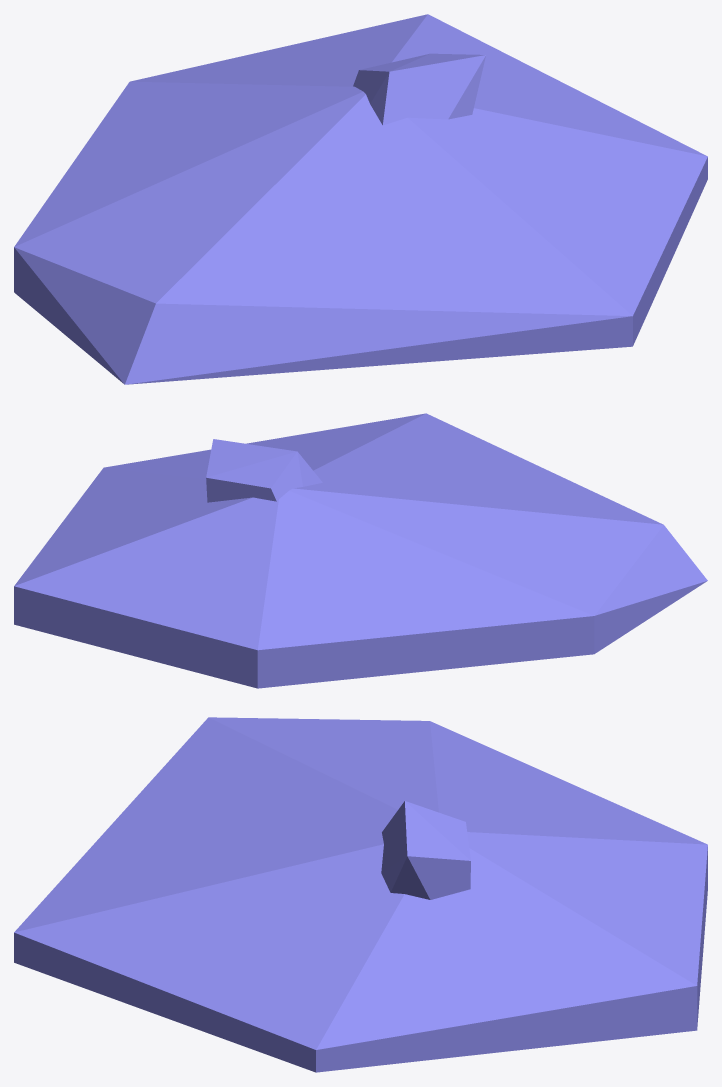
The model's file is Pile_02_Collider_01.FBX.
The picture shows the model from 3 angles, top to bottom: view 1: azimuth 30°, elevation 25°; view 2: azimuth 150°, elevation 25°; view 3: azimuth 270°, elevation 25°; orthographic projection. The views are drawn at different scales.
Parts seen in each view (by area): view 1: COLLIDER2, COLLIDER1; view 2: COLLIDER2, COLLIDER1; view 3: COLLIDER2, COLLIDER1.
Part boxes in pixels (bbox=[...]): COLLIDER2: bbox=[14, 14, 707, 384]; COLLIDER1: bbox=[353, 53, 485, 125]; COLLIDER2: bbox=[14, 413, 707, 688]; COLLIDER1: bbox=[206, 439, 322, 502]; COLLIDER2: bbox=[14, 717, 707, 1072]; COLLIDER1: bbox=[381, 801, 470, 899].
Size of the model in its own units: 132 by 27.63 by 124.
